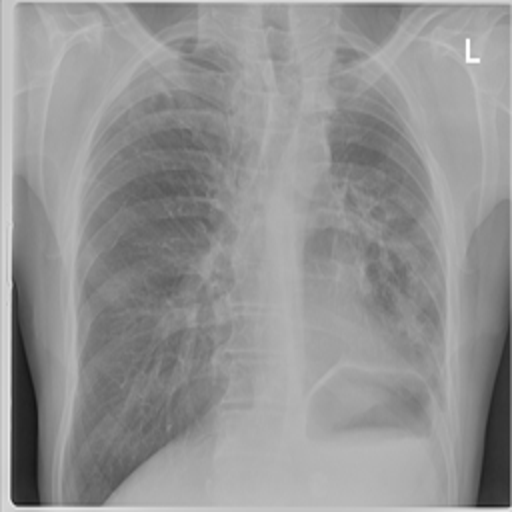TB: (327, 150, 449, 357)
